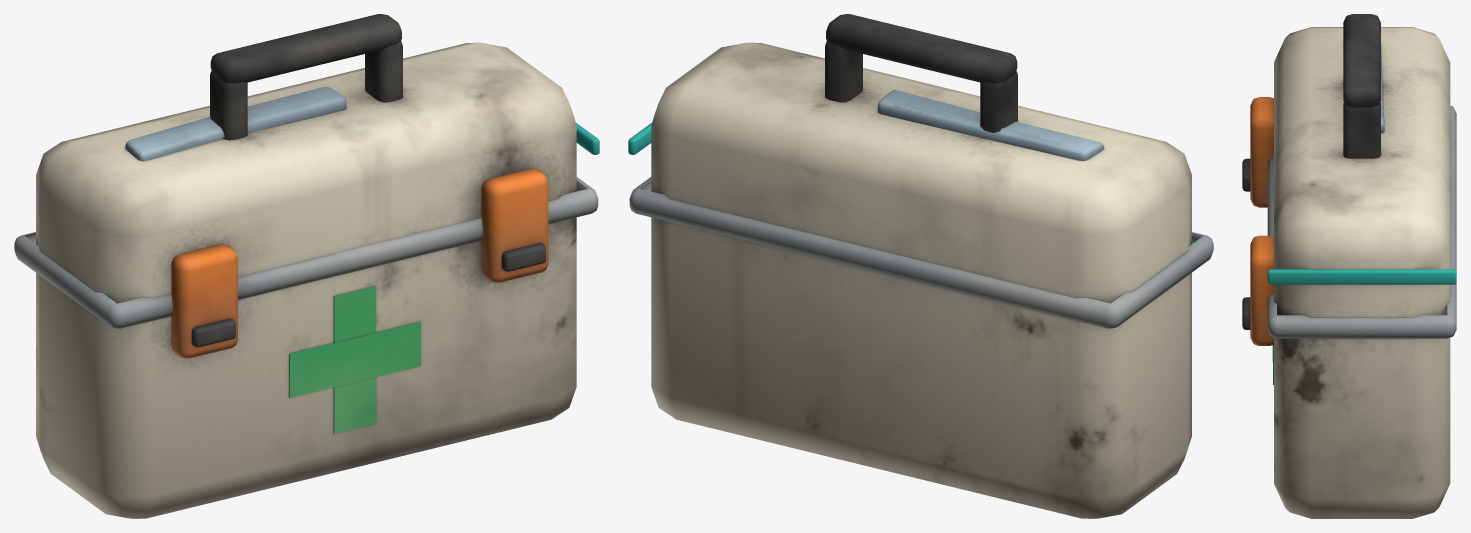
The model's file is medkit.fbx.
The picture shows the model from 3 angles, left to right: view 1: azimuth 30°, elevation 25°; view 2: azimuth 150°, elevation 25°; view 3: azimuth 270°, elevation 25°; orthographic projection. The views are drawn at different scales.
Visible parts, largest first — view 1: Body; view 2: Body; view 3: Body, Glow.
Part boxes in pixels (x1=…): Body: x1=14, y1=14, x2=598, y2=518; Body: x1=629, y1=14, x2=1213, y2=518; Body: x1=1242, y1=14, x2=1456, y2=518; Glow: x1=1267, y1=269, x2=1456, y2=284.
Bounding box in the file's own units: 0.82 × 0.66 × 0.34.
Materials: 1 (1 with a texture image).
